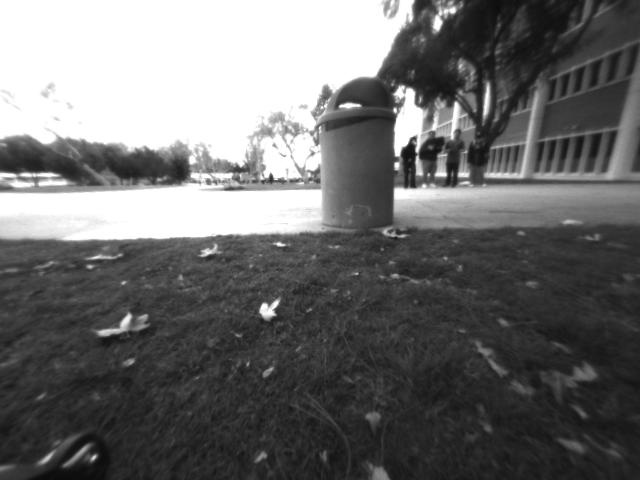trashcan: (310, 79, 405, 239)
